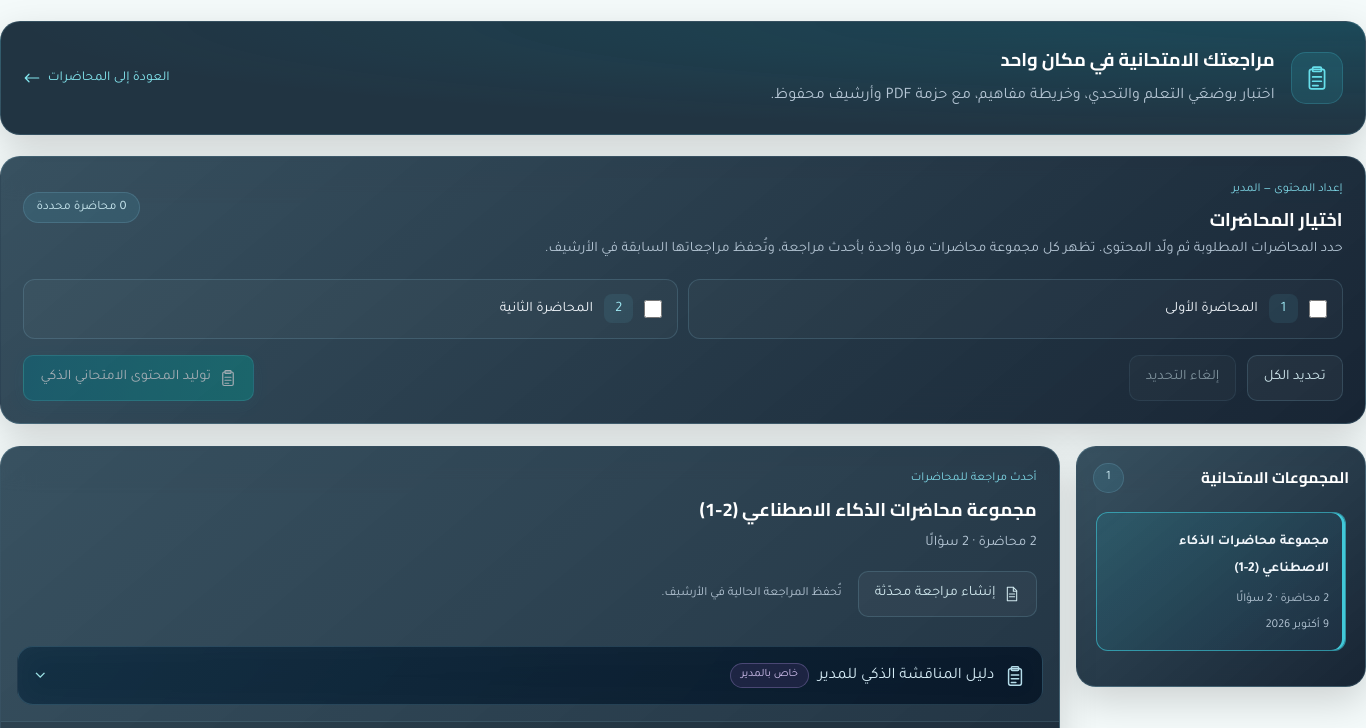
Test: exam material selection and archive navigation › keeps a successful generation visible when refreshing the list fails, without repeating the POST
This screenshot has width=1366, height=728.
Click the checkbox labelled "2 المحاضرة الثانية" at point(653, 309), box [644, 300, 662, 318]
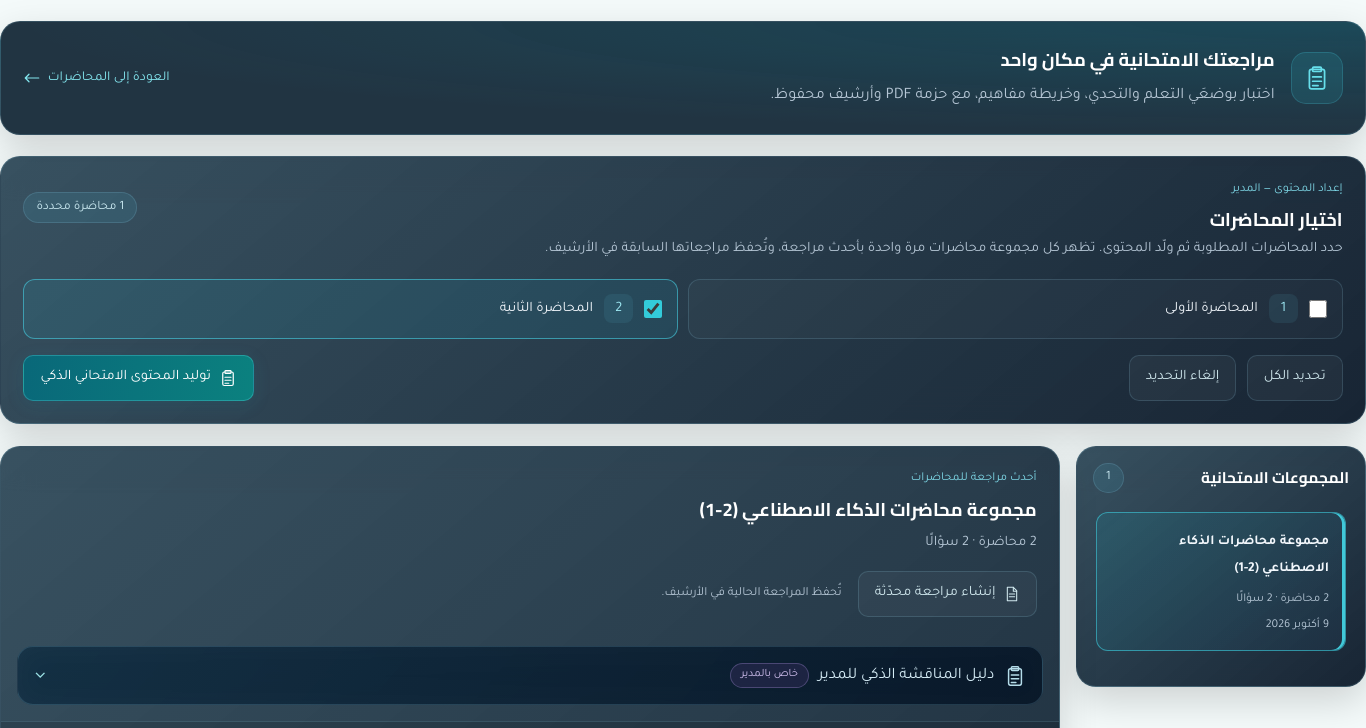
Click the button "توليد المحتوى الامتحاني الذكي" at point(139, 378), box [23, 355, 254, 401]
(page scrolled)
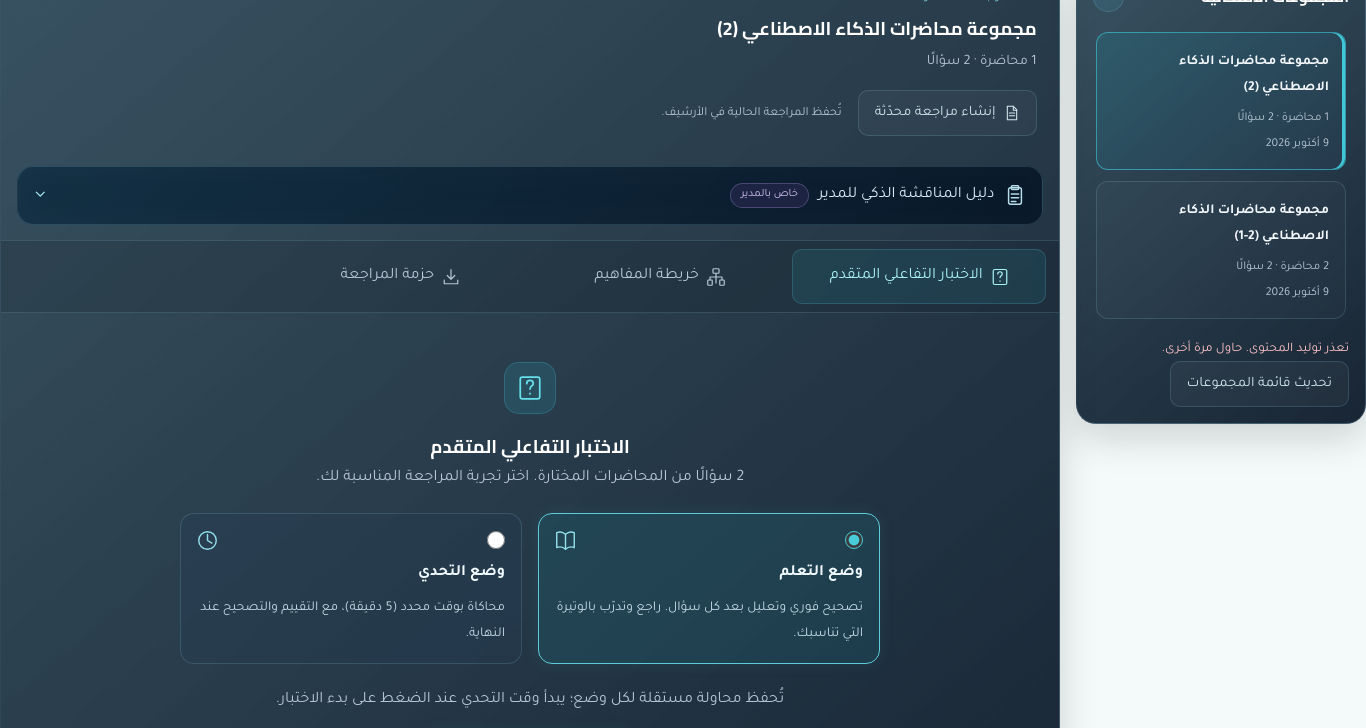
Expected: the heading "مجموعة محاضرات الذكاء الاصطناعي (2)" is shown, [717, 11, 1037, 46]
Click the button "تحديث قائمة المجموعات" at point(1259, 384), box [1170, 361, 1349, 407]
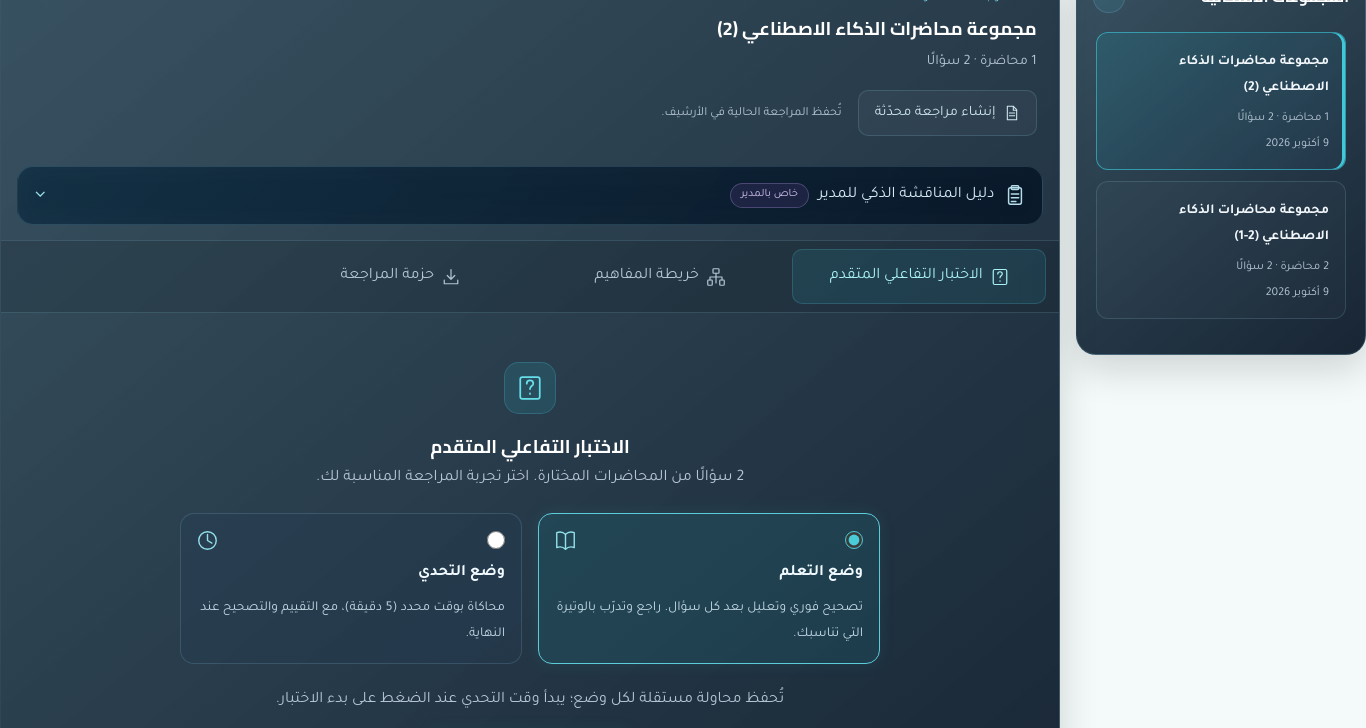
Expected: the message "تعذر توليد المحتوى. حاول مرة أخرى. تحديث قائمة المجموعات" is gone
